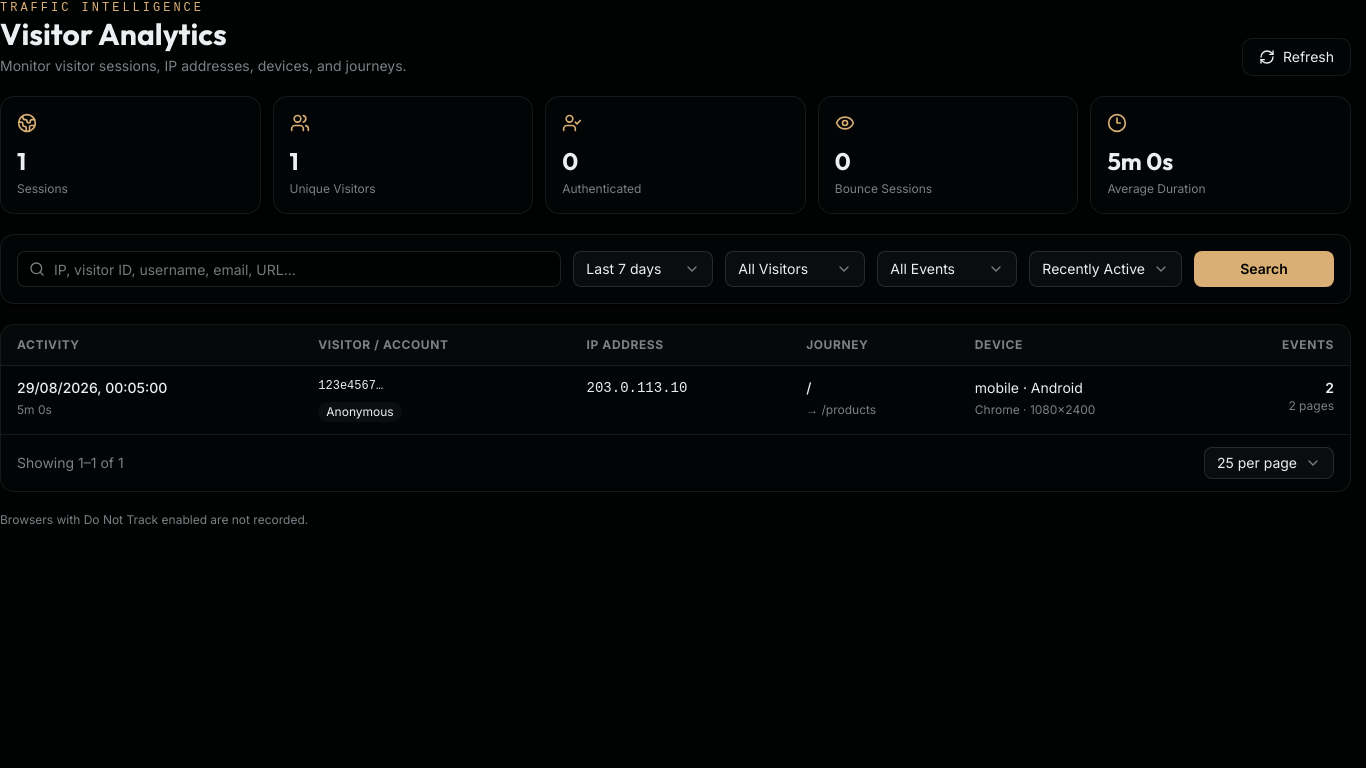
Test: VisitorAnalyticsPage › uses customized comboboxes and opens a complete session detail dialog
expect the text "203.0.113.10" is shown: met, box 570,366 -> 790,434
What coordinates should you click on to do the following:
click the button with aria-label "Open session"
I would click on:
 (92, 388)
Its box is 1,366 -> 1350,434.
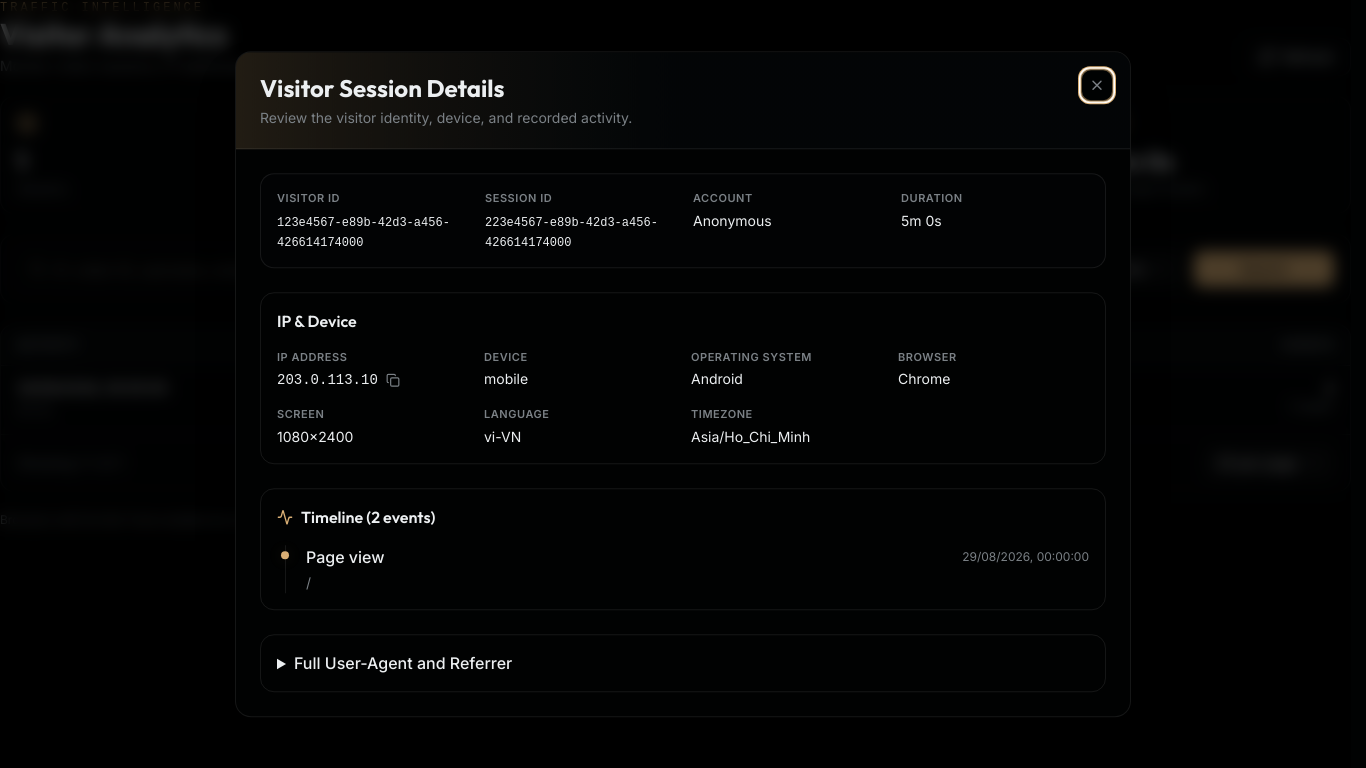
expect the dialog is shown: met, box 235,51 -> 1131,717
expect the heading "Visitor Session Details" is shown: met, box 260,73 -> 505,103
expect the heading "IP & Device" is shown: met, box 277,311 -> 357,331
